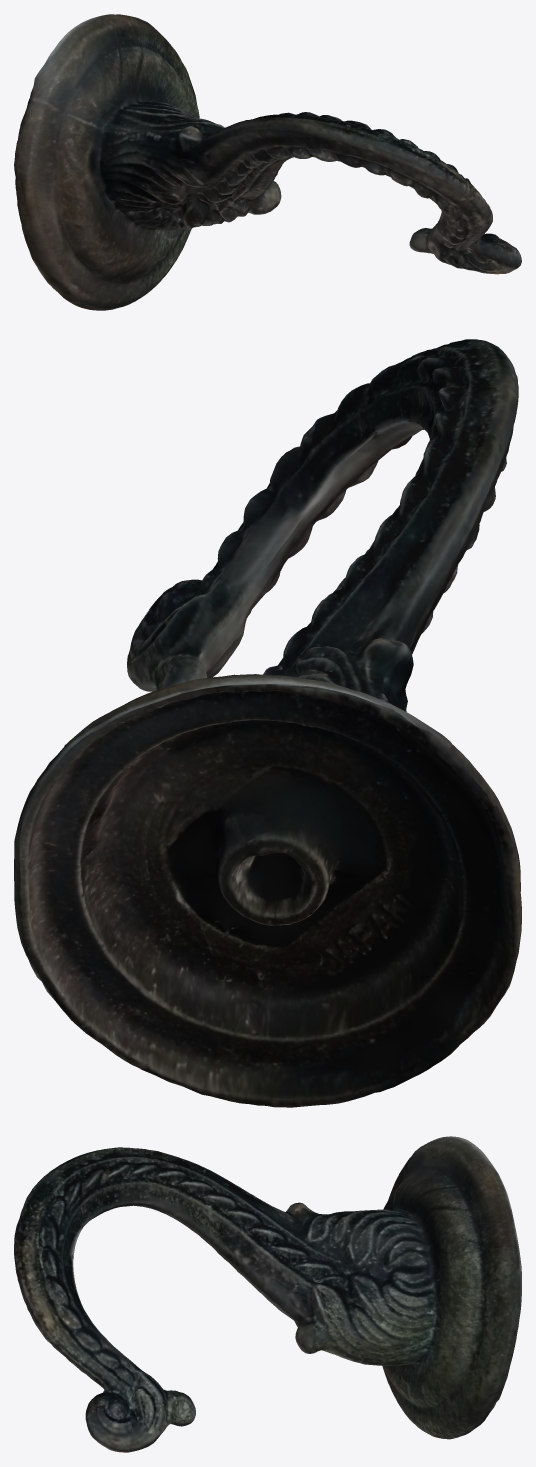
3 renders of one model, top to bottom at view 1: azimuth 30°, elevation 25°; view 2: azimuth 150°, elevation 25°; view 3: azimuth 270°, elevation 25°, orthographic. The views are drawn at different scales.
Visible parts, largest first — view 1: Object_4; view 2: Object_4; view 3: Object_4.
Part boxes in pixels (x1,y1,x2,y2): Object_4: (14,14,521,310); Object_4: (14,339,521,1107); Object_4: (14,1136,521,1452).
Size of the model in its own units: 0.4669 by 0.3597 by 0.5657.
Materials: 1 (1 with a texture image).
